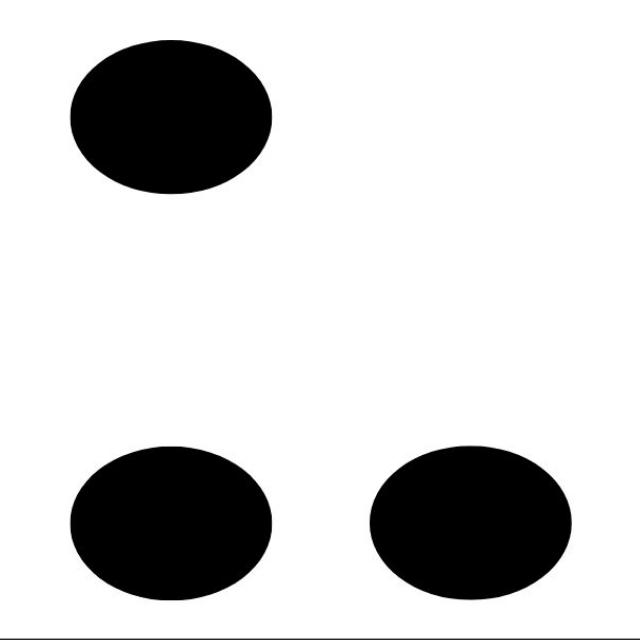letter_u: (69, 36, 574, 599)
